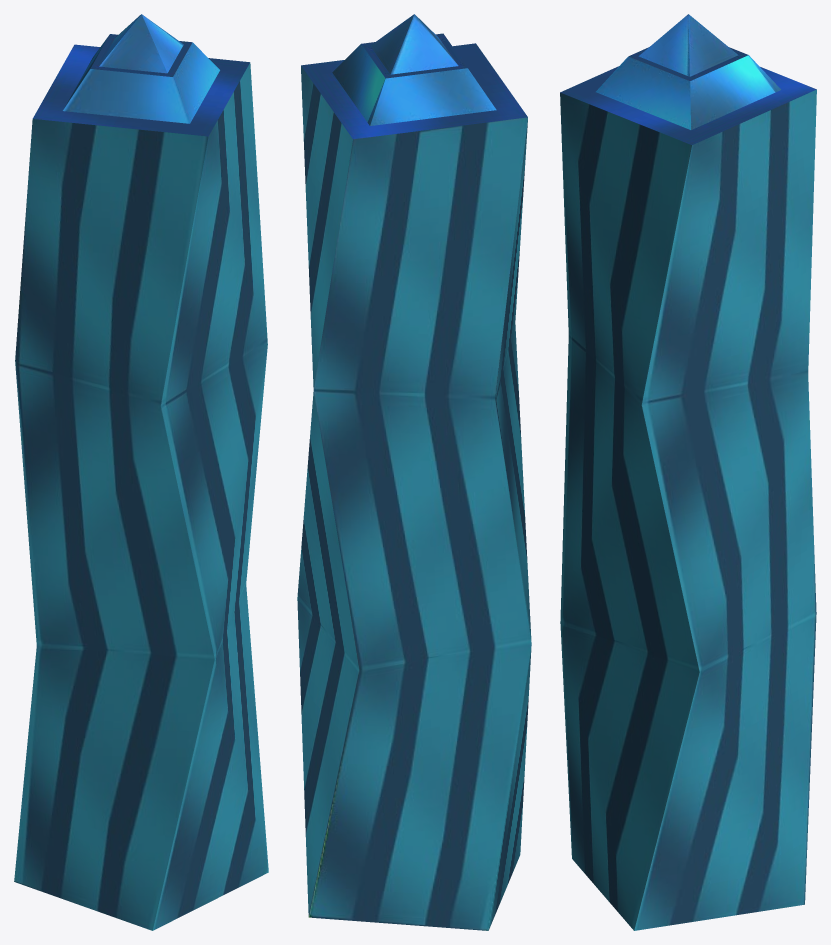
Rendered from House_18.FBX.
The picture shows the model from 3 angles, left to right: view 1: azimuth 30°, elevation 25°; view 2: azimuth 150°, elevation 25°; view 3: azimuth 270°, elevation 25°; orthographic projection.
Visible parts, largest first — view 1: House_18; view 2: House_18; view 3: House_18.
Part boxes in pixels (<box>): House_18: <box>14,14,268,930</box>; House_18: <box>297,14,531,930</box>; House_18: <box>560,14,816,930</box>.
Size of the model in its own units: 35.34 by 132 by 35.34.
Materials: 1 (1 with a texture image).
